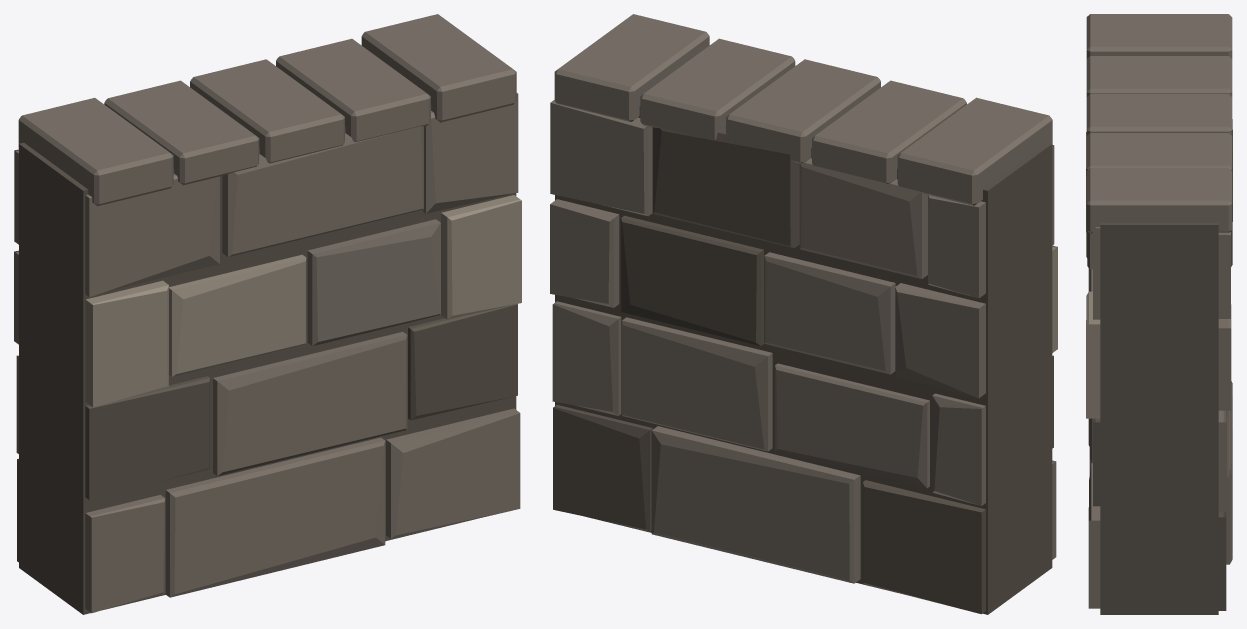
The model's file is mdvl_props_wall_stone_01.glb.
3 views of the same model, side by side, from view 1: azimuth 30°, elevation 25°; view 2: azimuth 150°, elevation 25°; view 3: azimuth 270°, elevation 25° (orthographic). The views are drawn at different scales.
Visible parts, largest first — view 1: mdvl_props_wall_stone_01; view 2: mdvl_props_wall_stone_01; view 3: mdvl_props_wall_stone_01.
Boxes of the visible parts, x1,y1,x2,y2 form: mdvl_props_wall_stone_01: (14,14,521,614); mdvl_props_wall_stone_01: (550,14,1057,614); mdvl_props_wall_stone_01: (1086,14,1232,614).
Bounding box in the file's own units: 1.01 × 0.9947 × 0.3223.
1 material, 1 textured.
